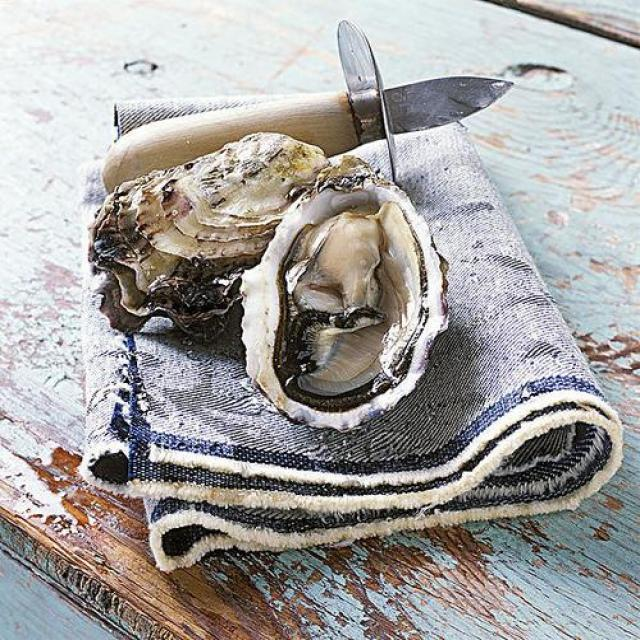Oyster-Closed: (86, 128, 333, 342)
Oyster-Open: (237, 153, 459, 434)
